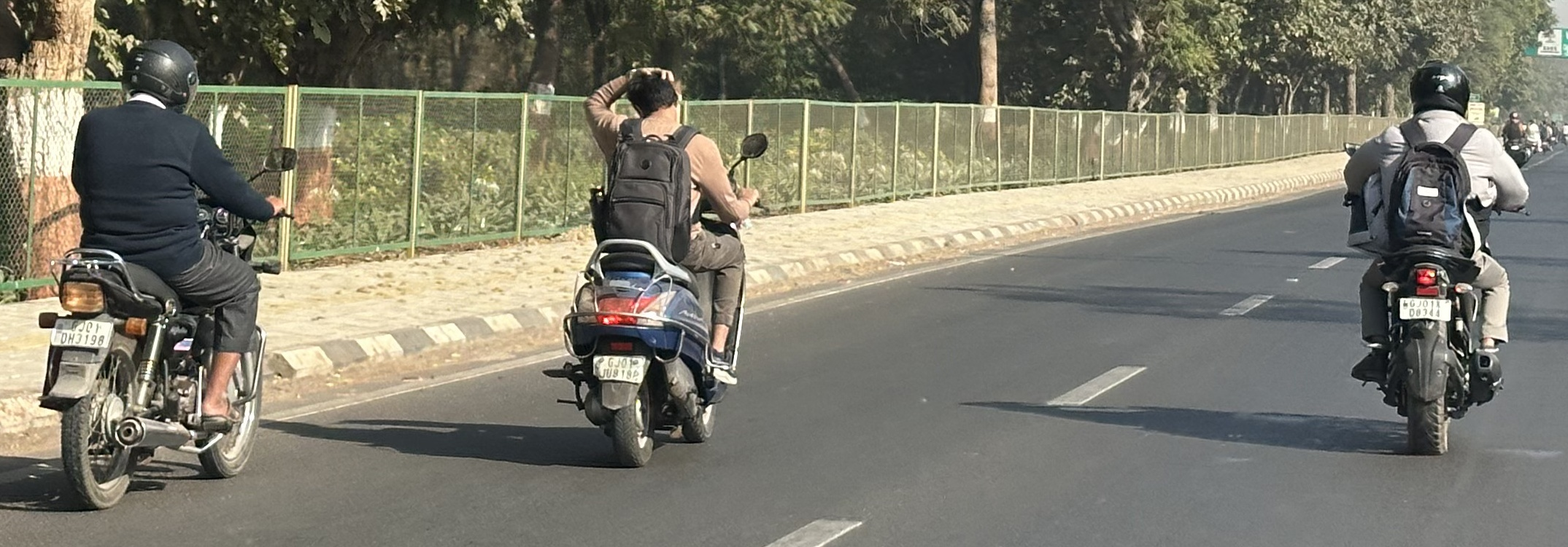BikeWithRider: (23, 31, 309, 519), (532, 58, 776, 474), (1325, 52, 1540, 463), (1497, 109, 1541, 170)
Helmet: (109, 31, 209, 114), (1396, 55, 1483, 122)
NoHelmet: (611, 62, 690, 130)
